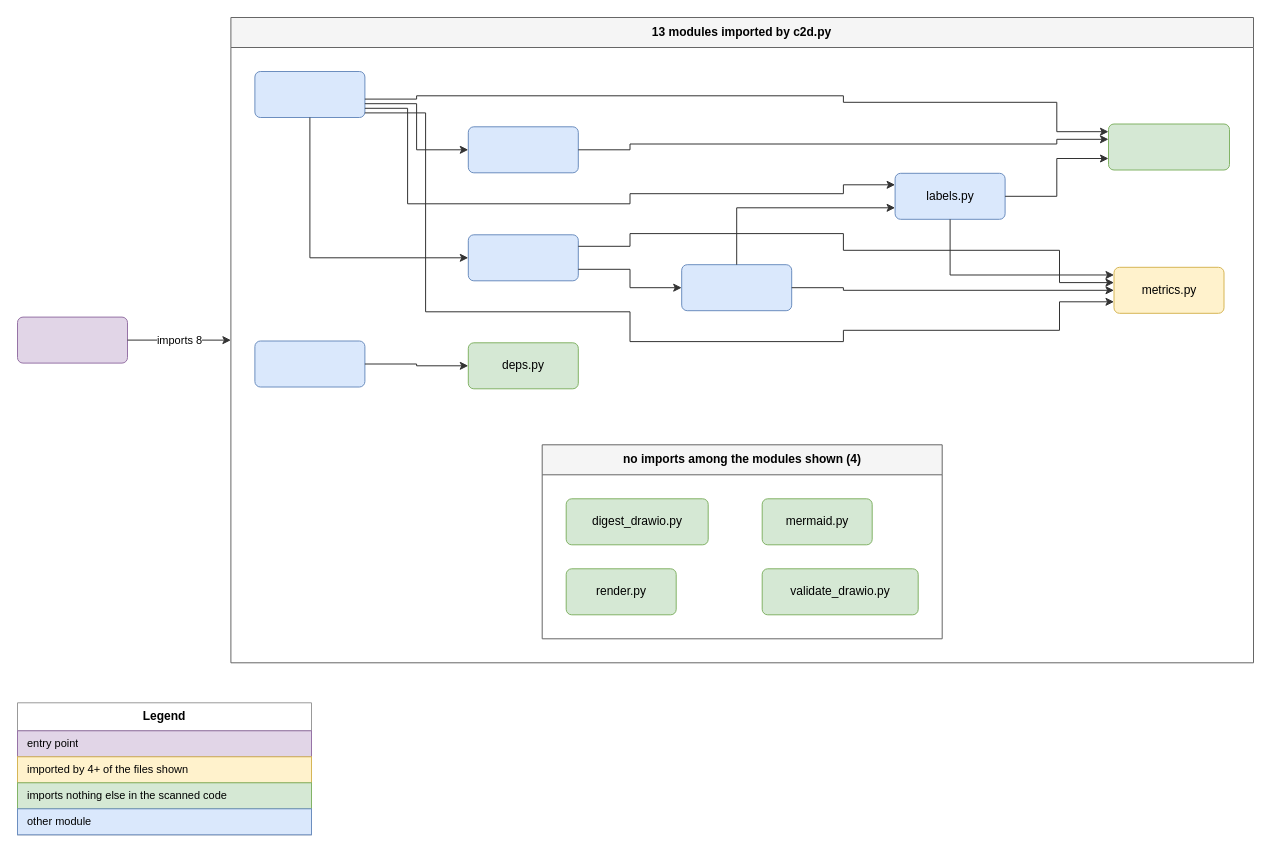
Image size: 1271x853. Some labels were removed from this diagram. Here are the shapes that lost their labels. From the top down, the box of each, then its label:
(254, 70, 365, 118): emit.py
(467, 126, 578, 173): sequence.py
(1108, 123, 1230, 170): drawio_lib.py
(467, 234, 578, 281): layout.py
(681, 264, 792, 311): reroute.py
(16, 316, 128, 363): c2d.py
(254, 340, 365, 387): facts.py
